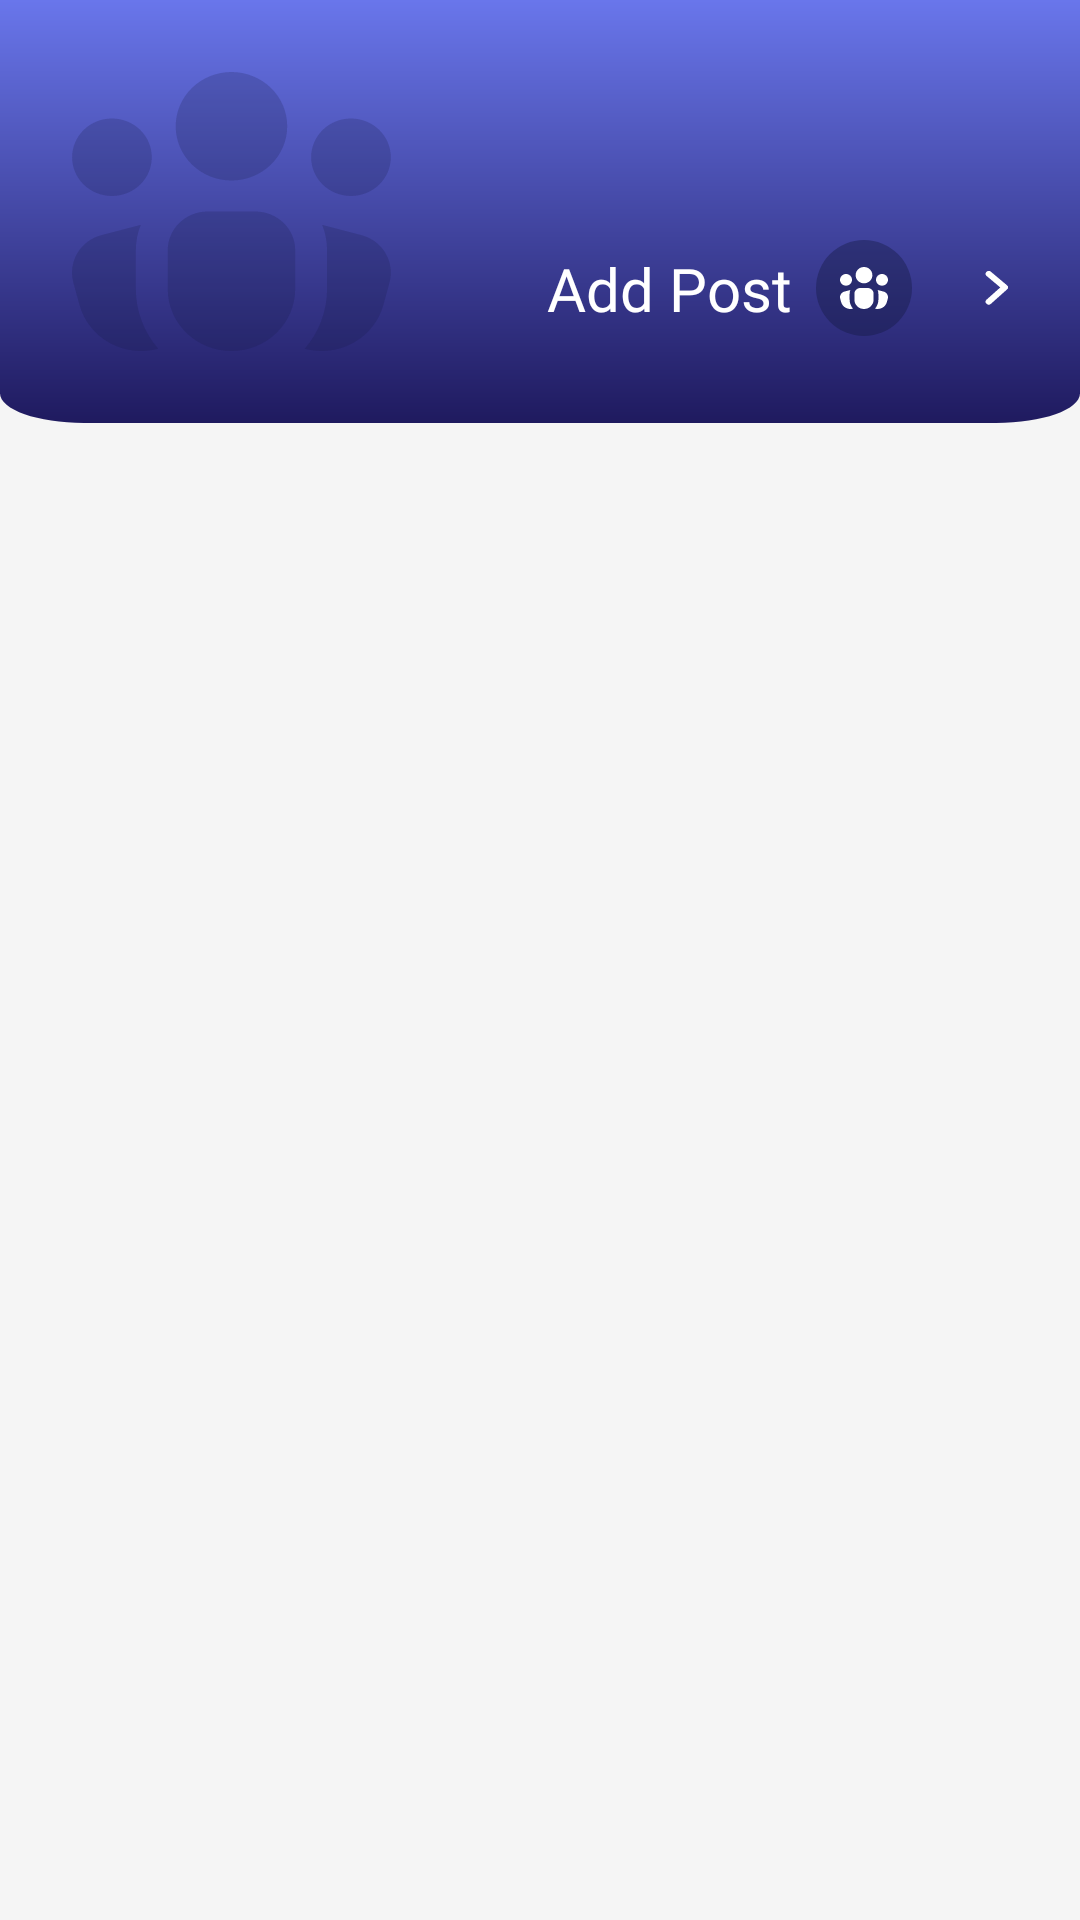

Locate icon controls on the screen. Image size 1080w x 1920h, boxes as {"x1": x1, "y1": y1, "x2": x2, "y2": y2}.
community: {"x1": 840, "y1": 267, "x2": 888, "y2": 309}
